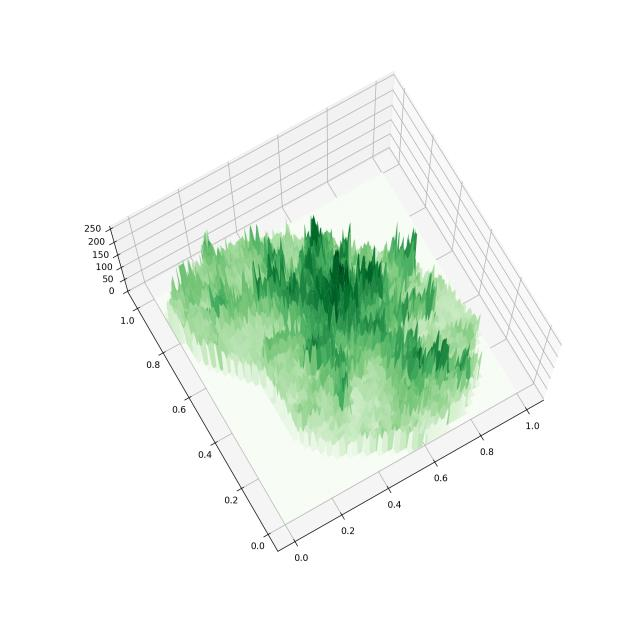spruce: (71, 64, 622, 600)
